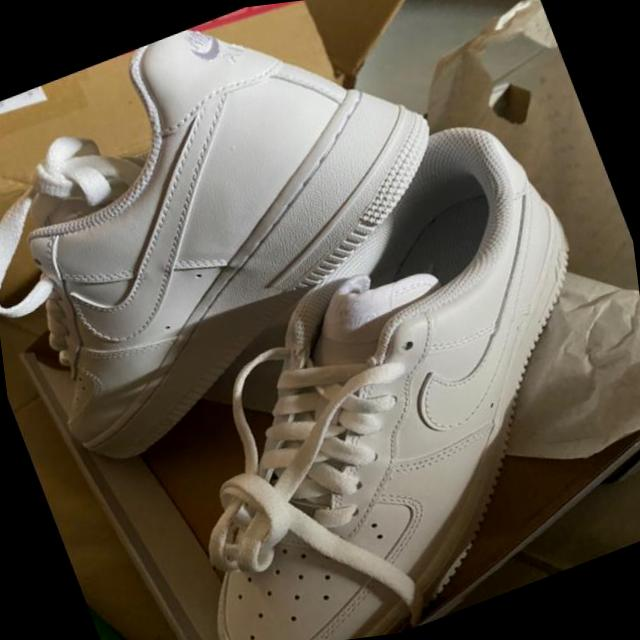nike_original_airforce: (60, 82, 640, 640), (0, 0, 514, 492)
